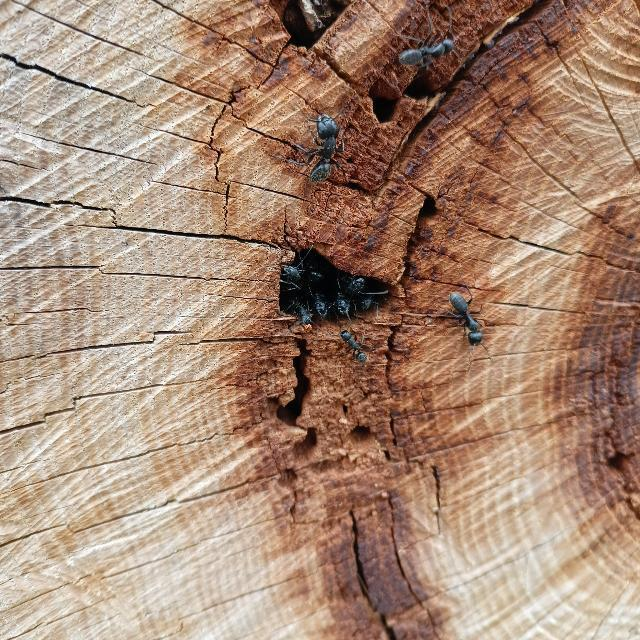Camponotus: (278, 94, 364, 198), (381, 18, 485, 98), (449, 277, 503, 357), (330, 324, 380, 368)
